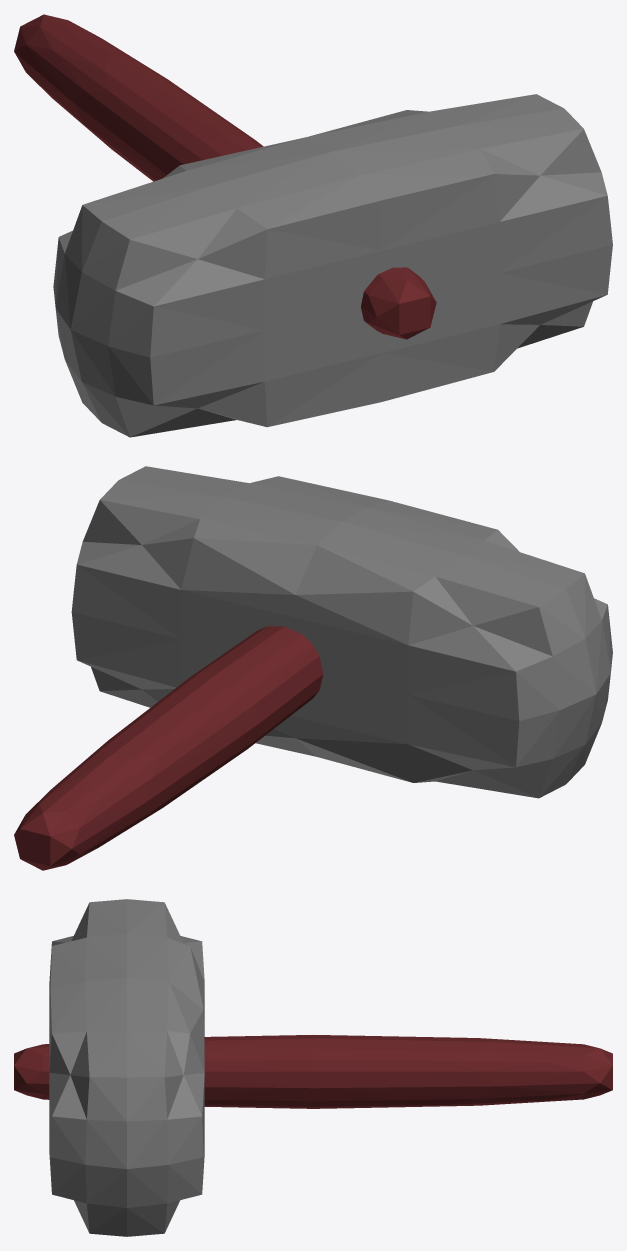
File: hammer.obj
The picture shows the model from 3 angles, top to bottom: view 1: azimuth 30°, elevation 25°; view 2: azimuth 150°, elevation 25°; view 3: azimuth 270°, elevation 25°; orthographic projection. The views are drawn at different scales.
Visible parts, largest first — view 1: 立方体.001; view 2: 立方体.001; view 3: 立方体.001.
Boxes of the visible parts, <box> form: 立方体.001: <box>14,14,612,437</box>; 立方体.001: <box>14,466,612,870</box>; 立方体.001: <box>14,899,612,1236</box>.
Size of the model in its own units: 1.1 by 0.4588 by 1.38.
Materials: 1 (1 with a texture image).
